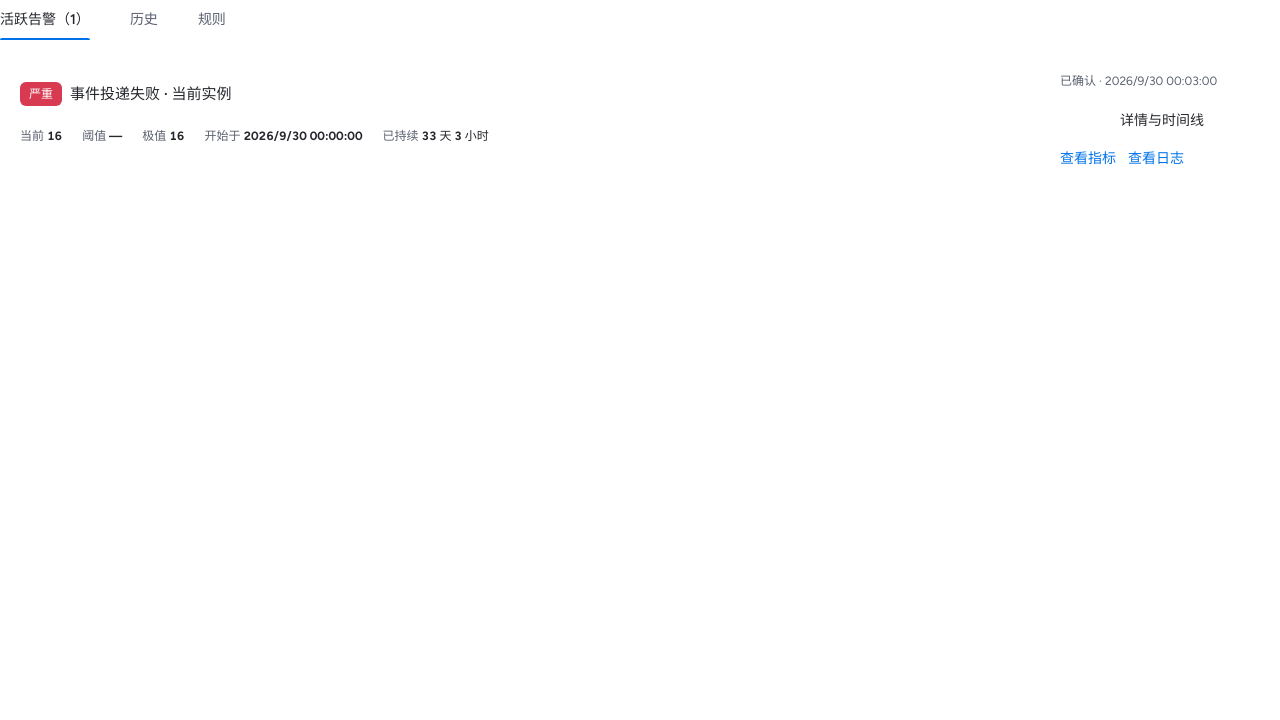
Scenario: 告警详情时间线 › 详情加载失败可以重试
This screenshot has width=1280, height=720.
Click the button "详情与时间线".
click(1162, 120)  # box [1060,100,1264,140]
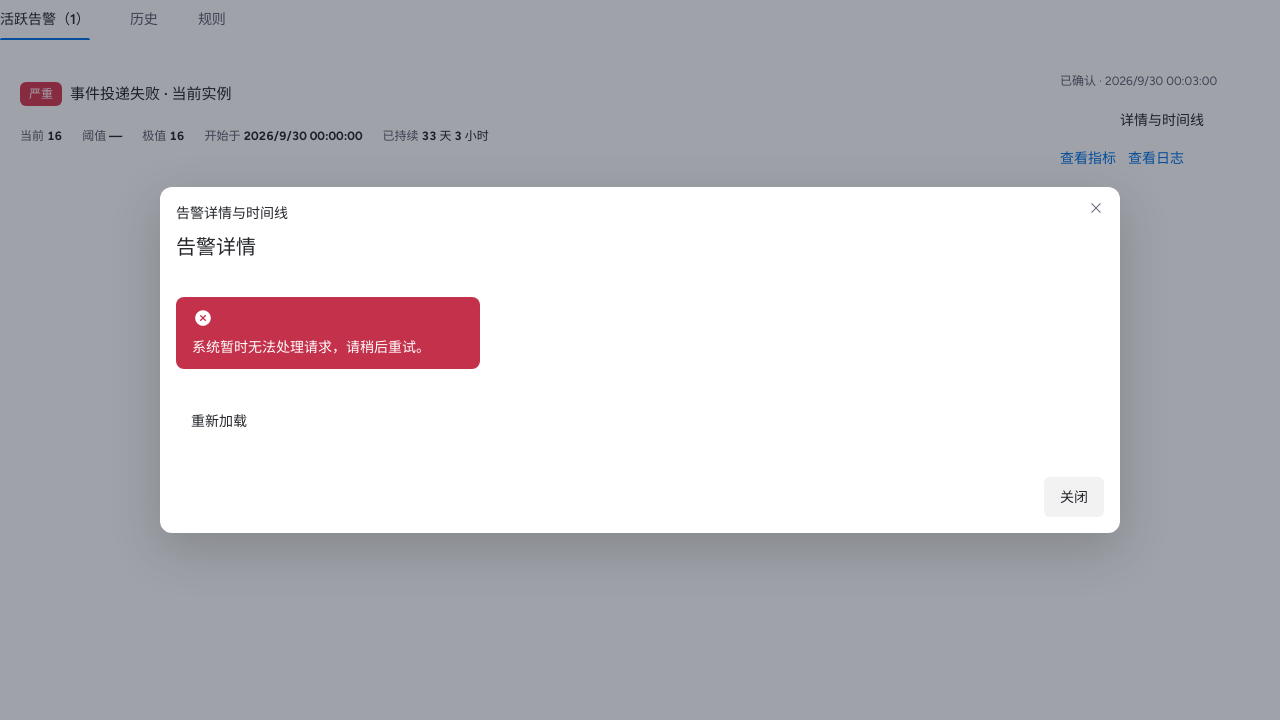
Now the element with class "alert-detail__error" shows "重新加载"
Click the button "重新加载".
click(219, 421)  # box [176,401,262,441]
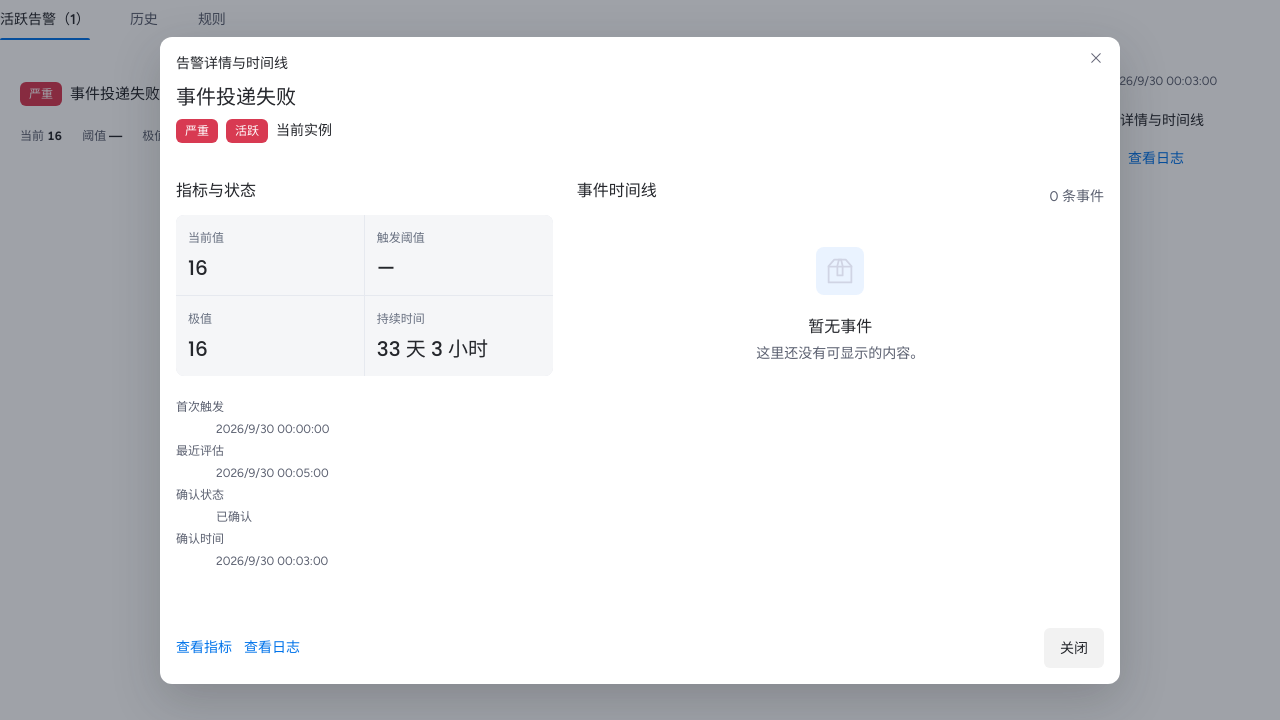
Now the element with class "alert-detail__heading" shows "事件投递失败", box [176,82,296,110]
